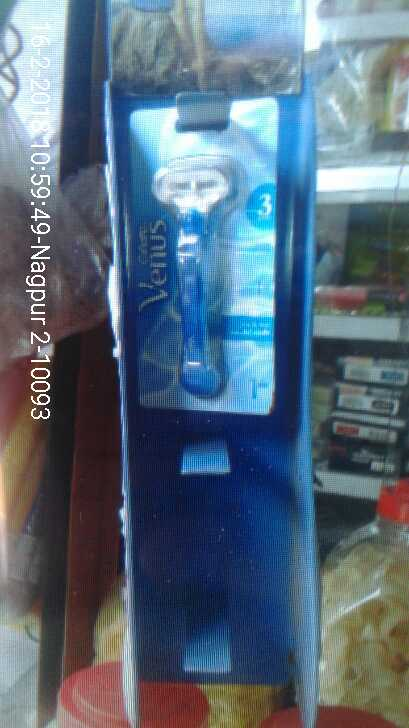venus: (122, 85, 292, 423)
